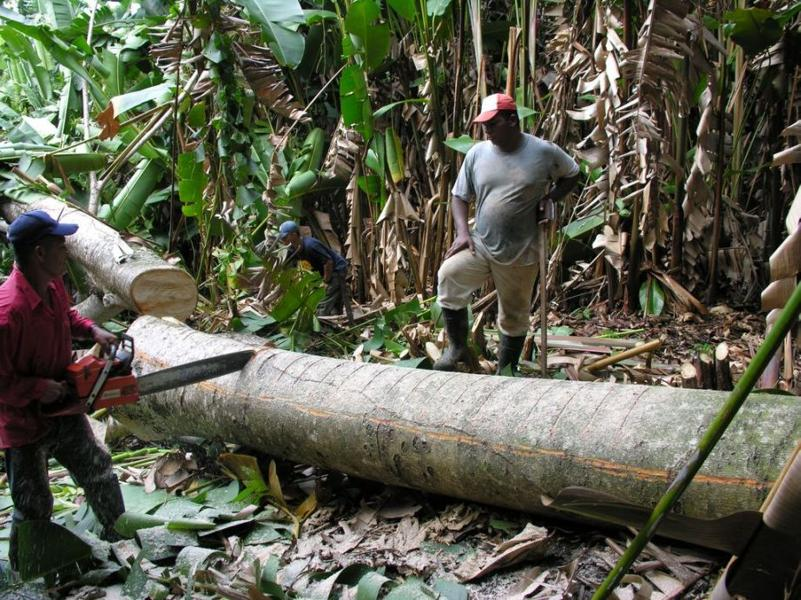person: (2, 212, 129, 570)
